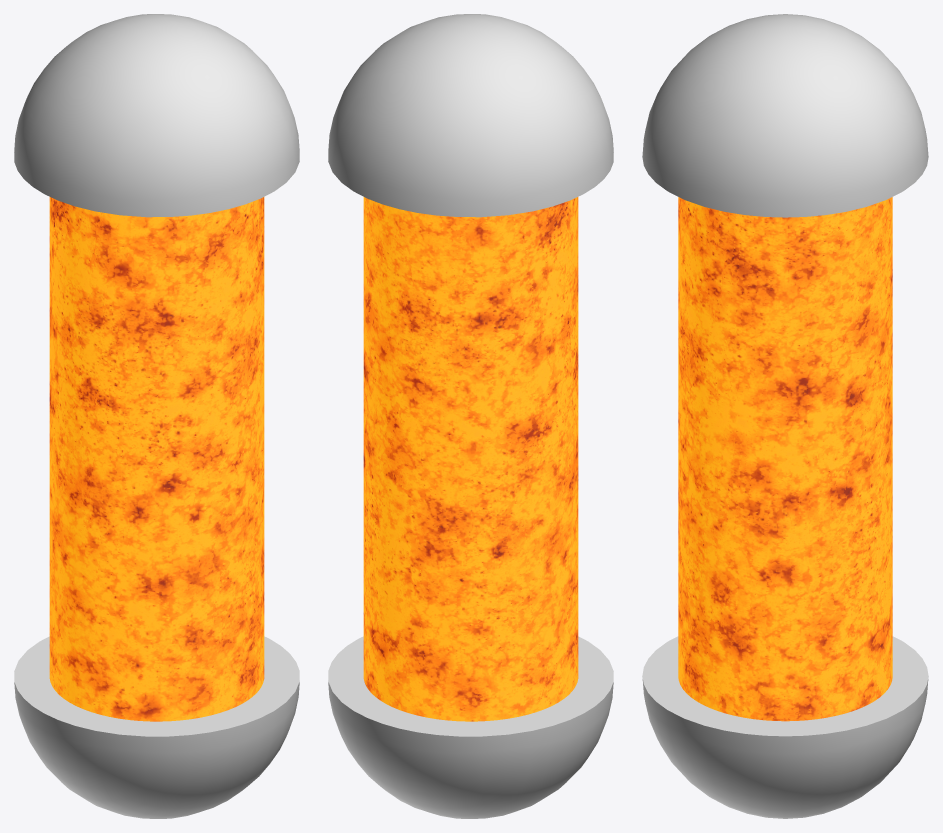
Rendered from Booster_Standart.fbx.
The picture shows the model from 3 angles, left to right: view 1: azimuth 30°, elevation 25°; view 2: azimuth 150°, elevation 25°; view 3: azimuth 270°, elevation 25°; orthographic projection.
Visible parts, largest first — view 1: PowerRod, Buster_Up, Buster_Down; view 2: PowerRod, Buster_Up, Buster_Down; view 3: PowerRod, Buster_Up, Buster_Down.
Boxes of the visible parts, <box> form: PowerRod: <box>49,197,264,721</box>; Buster_Up: <box>14,14,299,217</box>; Buster_Down: <box>14,636,299,818</box>; PowerRod: <box>363,197,578,721</box>; Buster_Up: <box>328,14,613,217</box>; Buster_Down: <box>328,636,613,818</box>; PowerRod: <box>678,197,892,721</box>; Buster_Up: <box>642,14,928,217</box>; Buster_Down: <box>642,636,928,818</box>.
Size of the model in its own units: 0.3 by 0.1 by 0.1.
